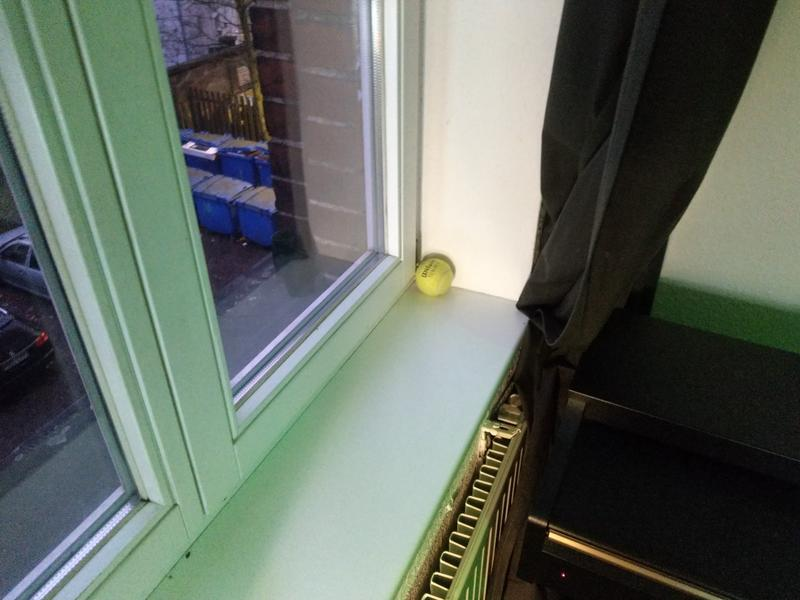Tennisball: (413, 254, 457, 303)
